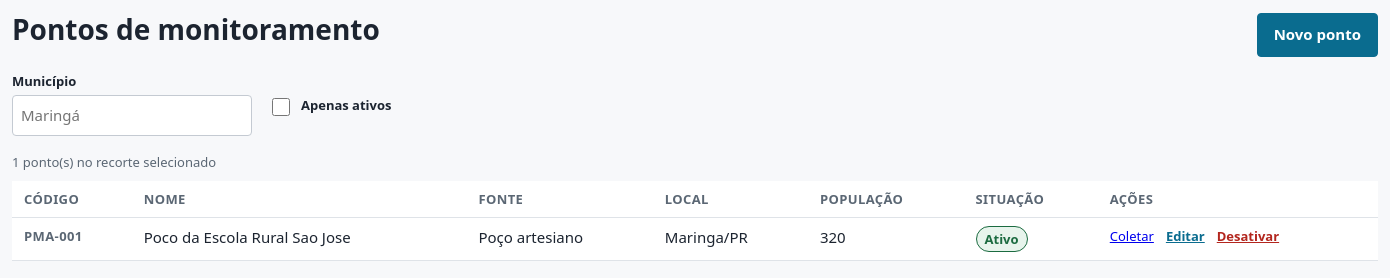
Scenario: PontosPage › desabilita "apenas ativos" ao filtrar por municipio, que a API ignora
Check: the checkbox labelled "Apenas ativos" is enabled, box [272,98,290,116]
Step 1. Type "Maringa" into the search field → (132, 116), box [12,95,252,136]
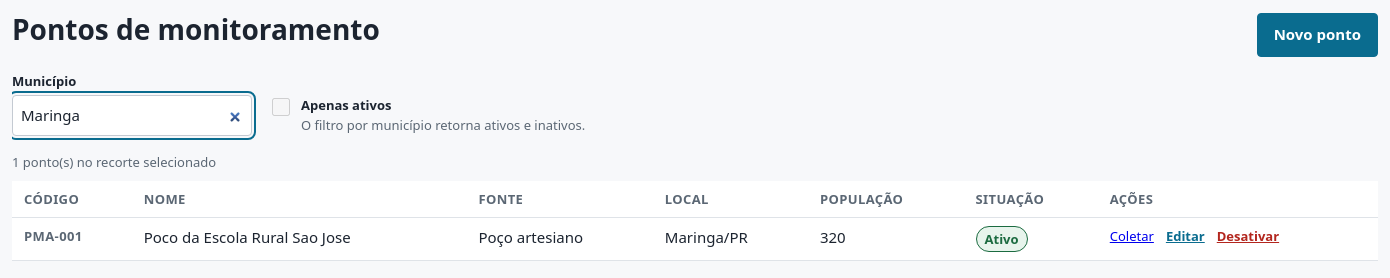
Check: the checkbox labelled "Apenas ativos" is disabled, box [272,98,290,116]
Check: the text "O filtro por município retorna ativos e inativos." is shown, box [301,115,585,135]
